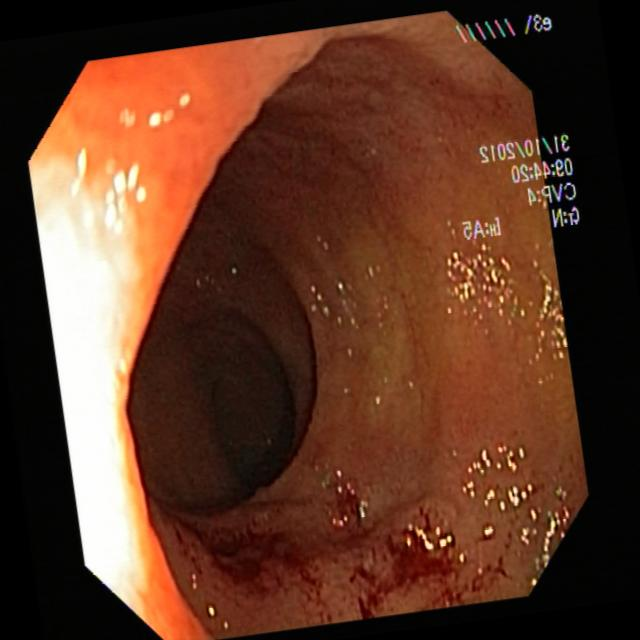ulcerative-colities: (189, 39, 549, 281), (153, 417, 535, 640)
